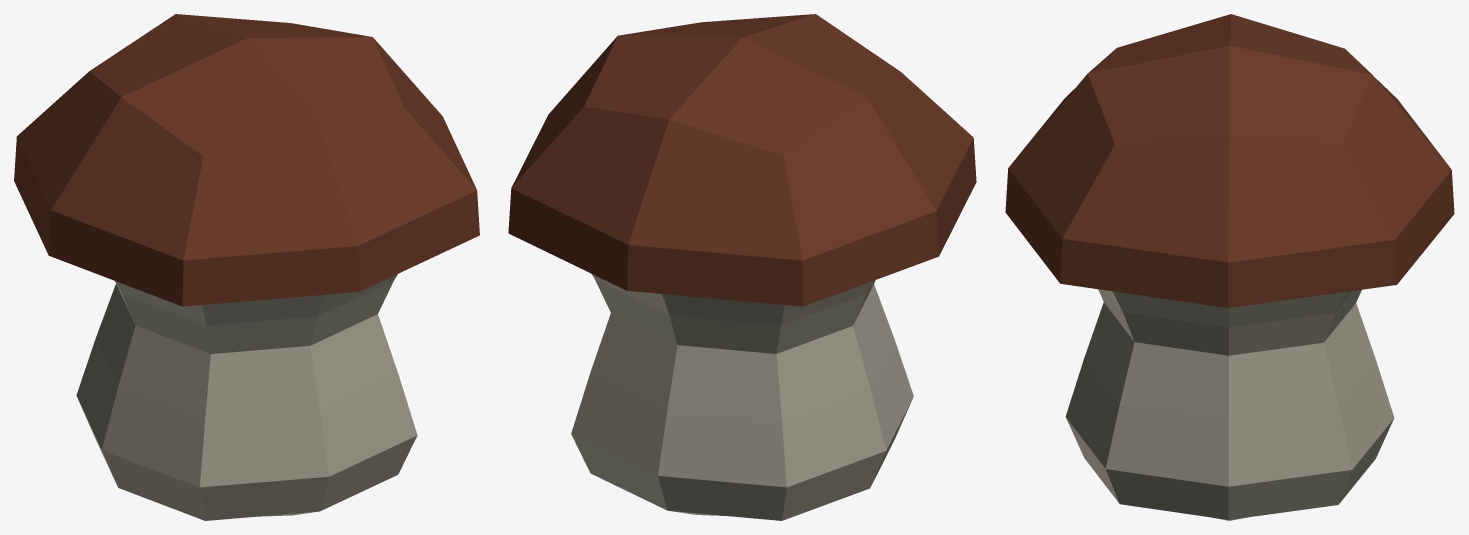
The model's file is mushroom_1.gltf.
3 views of the same model, side by side, from view 1: azimuth 30°, elevation 25°; view 2: azimuth 150°, elevation 25°; view 3: azimuth 270°, elevation 25° (orthographic).
Parts seen in each view (by area): view 1: mushroom_1; view 2: mushroom_1; view 3: mushroom_1.
Boxes of the visible parts, x1,y1,x2,y2 form: mushroom_1: (14, 14, 479, 520); mushroom_1: (508, 14, 976, 520); mushroom_1: (1005, 14, 1454, 520).
Bounding box in the file's own units: 0.1085 × 0.1186 × 0.1085.
Materials: 1 (1 with a texture image).
